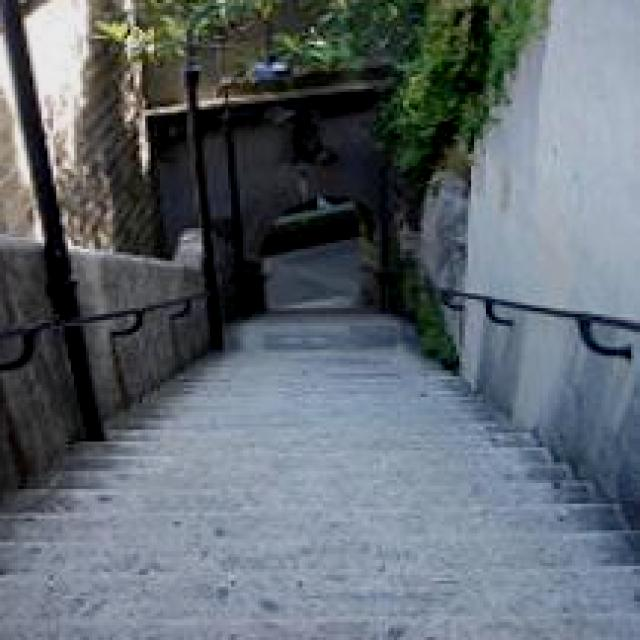downstair: (34, 443, 517, 635)
